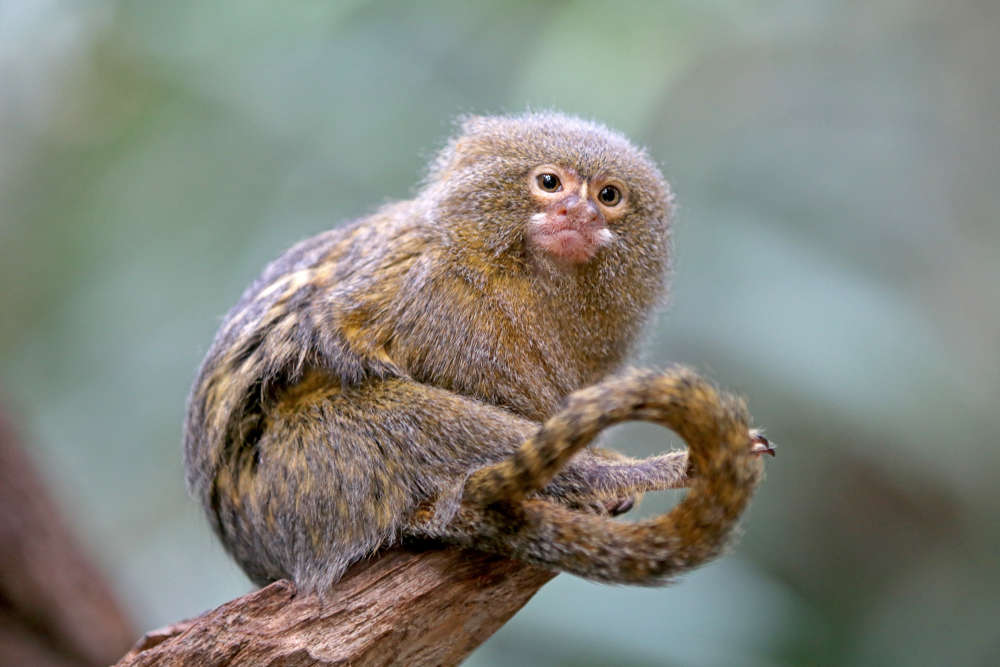PygmyMarmoset: (160, 100, 771, 591)
